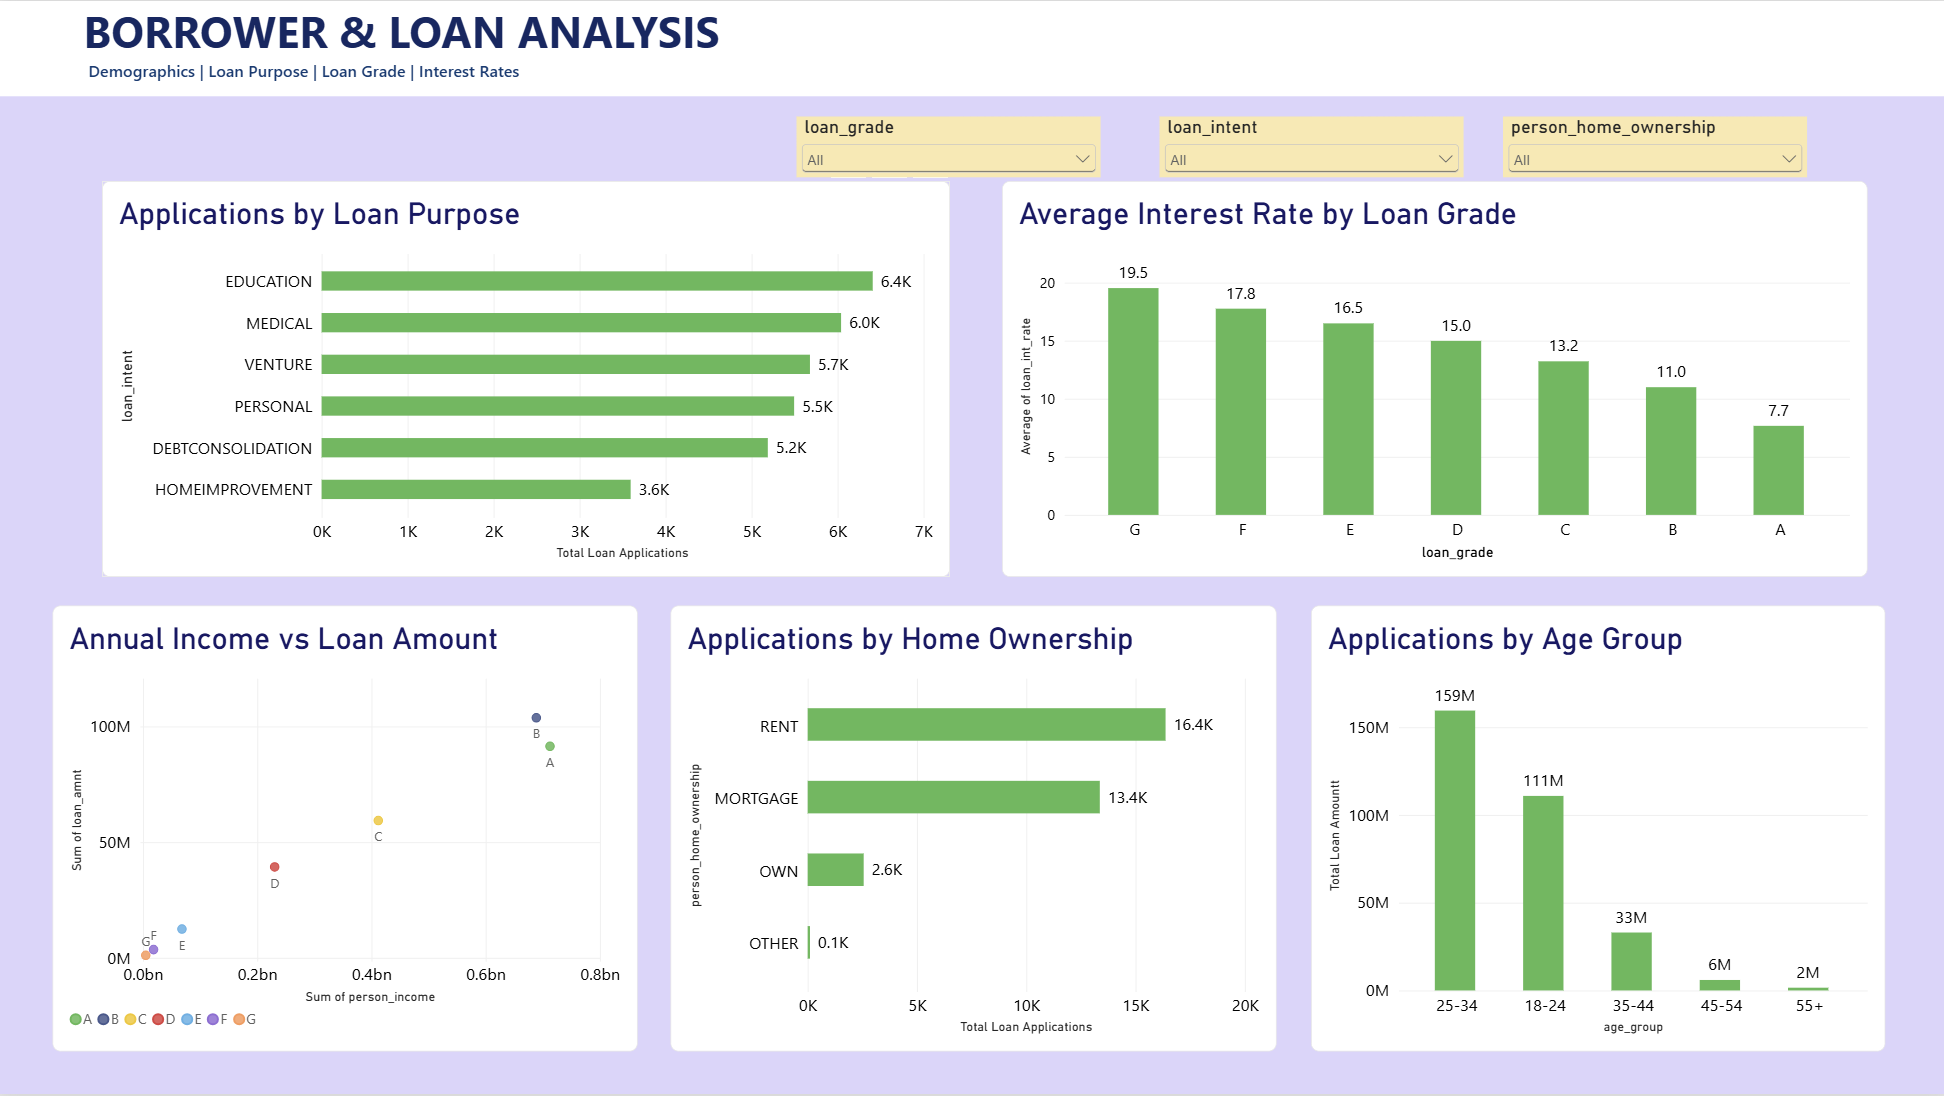

This screenshot's page, from the dashboard's own definition file:
{"tool":"powerbi","page":{"name":"loan","canvas":[1920,1080],"ordinal":1},"visuals":[{"type":"clusteredBarChart","title":"Applications by Loan Purpose","fields":{"Category":["loan_risk_portfolio credit_risk_dataset.loan_intent"],"Y":["loan_risk_portfolio credit_risk_dataset.Total Loan Applications"]},"box":[100,178,836.9,390.8],"z":0},{"type":"clusteredColumnChart","title":"Average Interest Rate by Loan  Grade","fields":{"Category":["loan_risk_portfolio credit_risk_dataset.loan_grade"],"Y":["Avg(loan_risk_portfolio credit_risk_dataset.loan_int_rate)"]},"box":[988,178,854.3,390.8],"z":1},{"type":"scatterChart","title":"Annual Income vs Loan Amount","fields":{"Series":["loan_risk_portfolio credit_risk_dataset.loan_grade"],"X":["Sum(loan_risk_portfolio credit_risk_dataset.person_income)"],"Y":["Sum(loan_risk_portfolio credit_risk_dataset.loan_amnt)"]},"box":[52,596,577.5,439.8],"z":2},{"type":"clusteredBarChart","title":"Applications by Home Ownership","fields":{"Category":["loan_risk_portfolio credit_risk_dataset.person_home_ownership"],"Y":["loan_risk_portfolio credit_risk_dataset.Total Loan Applications"]},"box":[662,596,598,439.8],"z":3},{"type":"clusteredColumnChart","title":"Applications by Age Group","fields":{"Category":["loan_risk_portfolio credit_risk_dataset.age_group"],"Y":["loan_risk_portfolio credit_risk_dataset.Total Loan Amountt"]},"box":[1294,596,566.4,439.8],"z":4},{"type":"slicer","fields":{"Values":["loan_risk_portfolio credit_risk_dataset.loan_grade"]},"box":[785.5,113.4,300.2,60],"z":5},{"type":"slicer","fields":{"Values":["loan_risk_portfolio credit_risk_dataset.loan_intent"]},"box":[1144,113.4,300.2,60],"z":6},{"type":"slicer","fields":{"Values":["loan_risk_portfolio credit_risk_dataset.person_home_ownership"]},"box":[1482.5,113.4,300.2,60],"z":7},{"type":"textbox","box":[0,0,1920,94],"z":8},{"type":"textbox","box":[78,58,502,22],"z":9}]}

Visuals, with their boxes in screenshot pixels (x1, y1, x2, y2), scaled from the page's 1920x1080 canvas onto the 1944x1096 screenshot:
"Applications by Loan Purpose" clusteredBarChart: region(101, 181, 949, 577)
"Average Interest Rate by Loan  Grade" clusteredColumnChart: region(1000, 181, 1865, 577)
"Annual Income vs Loan Amount" scatterChart: region(53, 605, 637, 1051)
"Applications by Home Ownership" clusteredBarChart: region(670, 605, 1276, 1051)
"Applications by Age Group" clusteredColumnChart: region(1310, 605, 1884, 1051)
slicer - loan_risk_portfolio credit_risk_dataset.loan_grade: region(795, 115, 1099, 176)
slicer - loan_risk_portfolio credit_risk_dataset.loan_intent: region(1158, 115, 1462, 176)
slicer - loan_risk_portfolio credit_risk_dataset.person_home_ownership: region(1501, 115, 1805, 176)
textbox: region(0, 0, 1943, 95)
textbox: region(79, 59, 587, 81)
